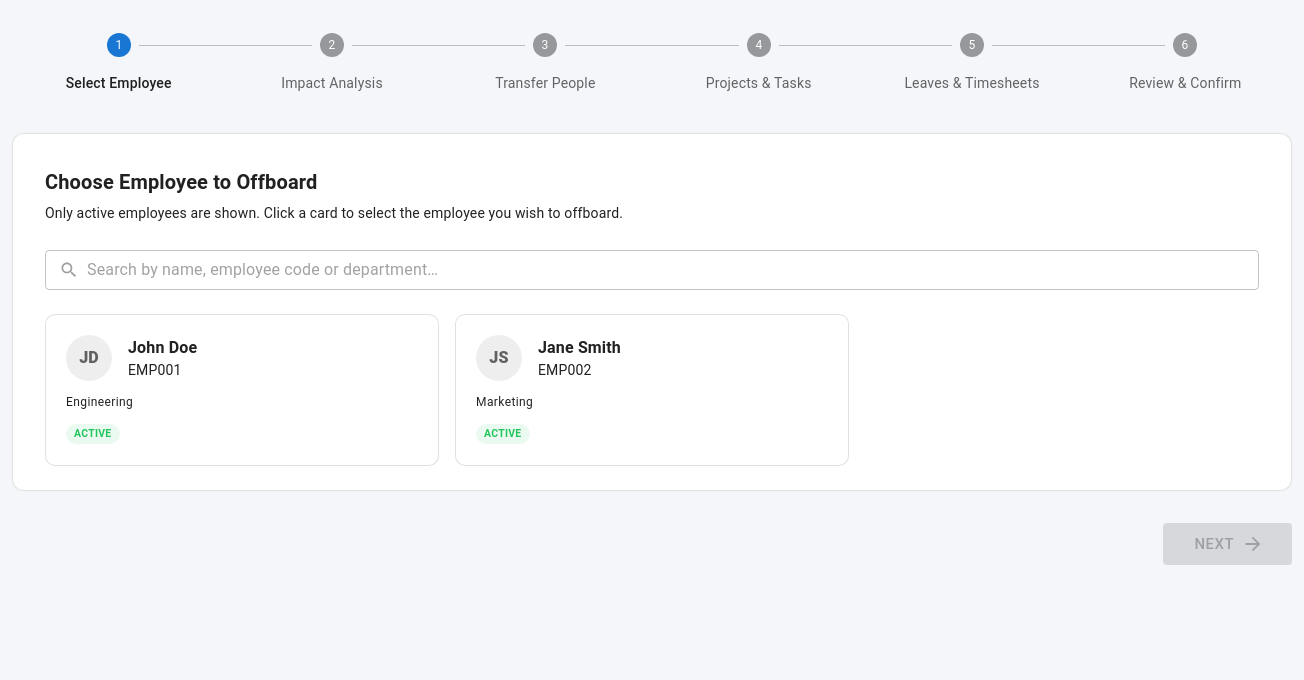
Test case: OffboardingWizard › shows warning alerts when impact has warnings
This screenshot has width=1304, height=680.
Click the text "John Doe" at (163, 348), box [128,336,197,360]
(page scrolled)
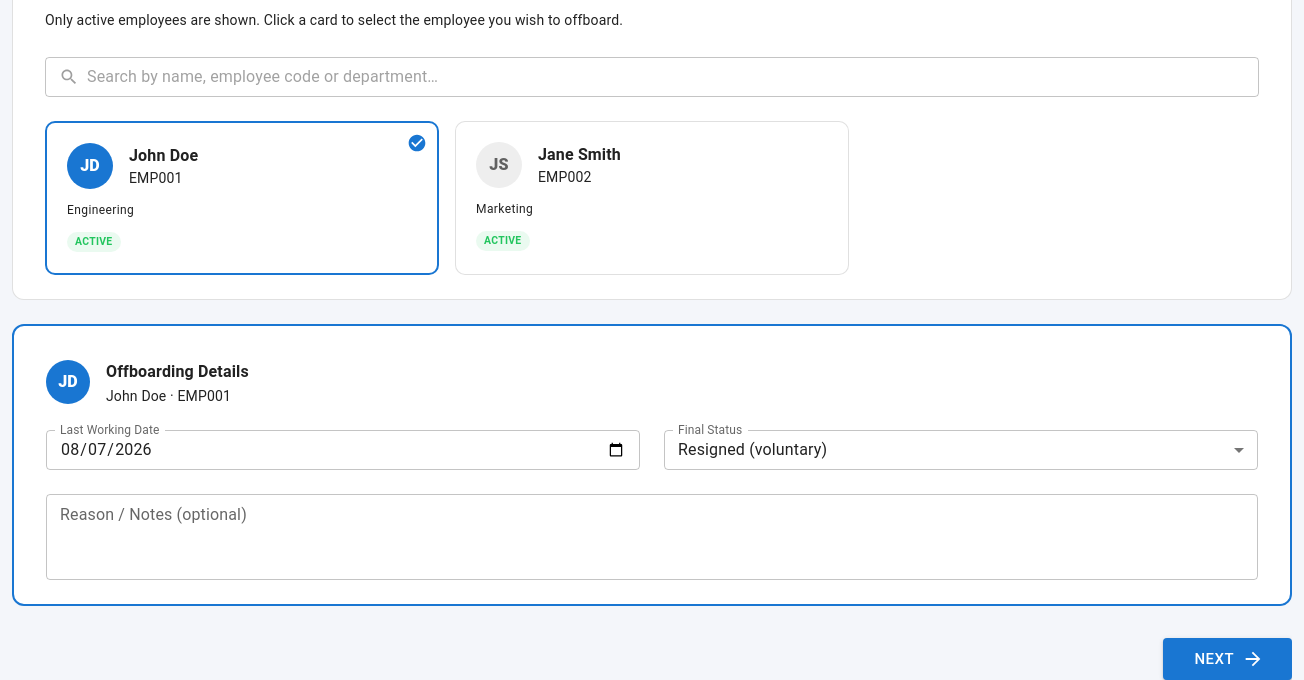
Click the button "Next" at (1227, 659), box [1162,638,1292,679]
(page scrolled)
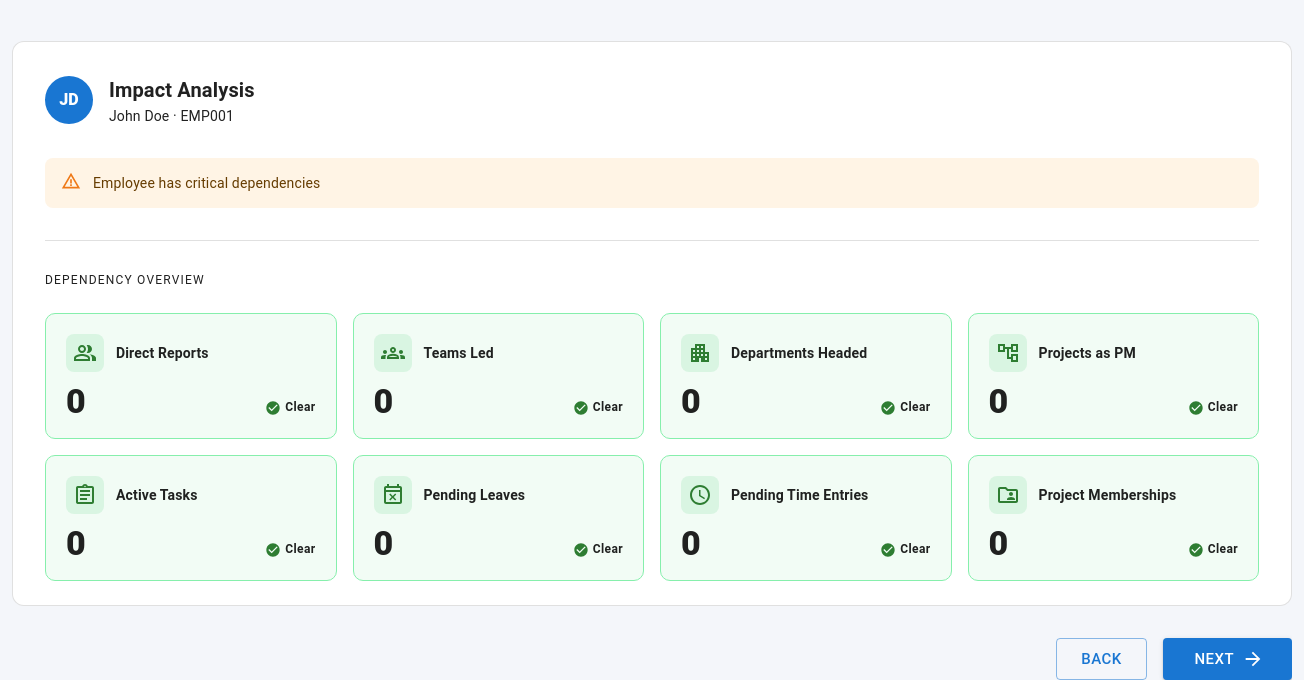
Result: the text "Employee has critical dependencies" is shown at [93,175,320,191]
